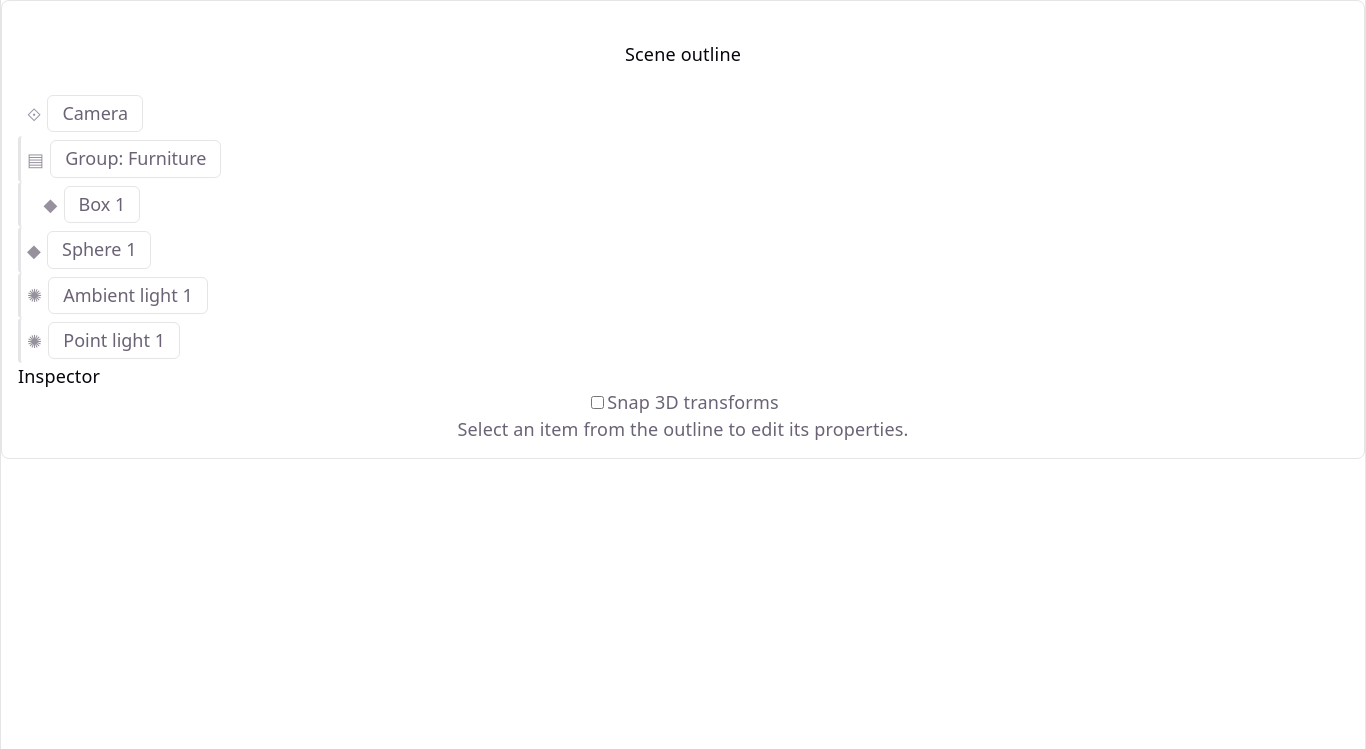
Test: Outline3DInspector › shows an object's material and type-specific dimension fields
Click the button "Sphere 1": [99, 250] box [47,231,151,268]
(page scrolled)
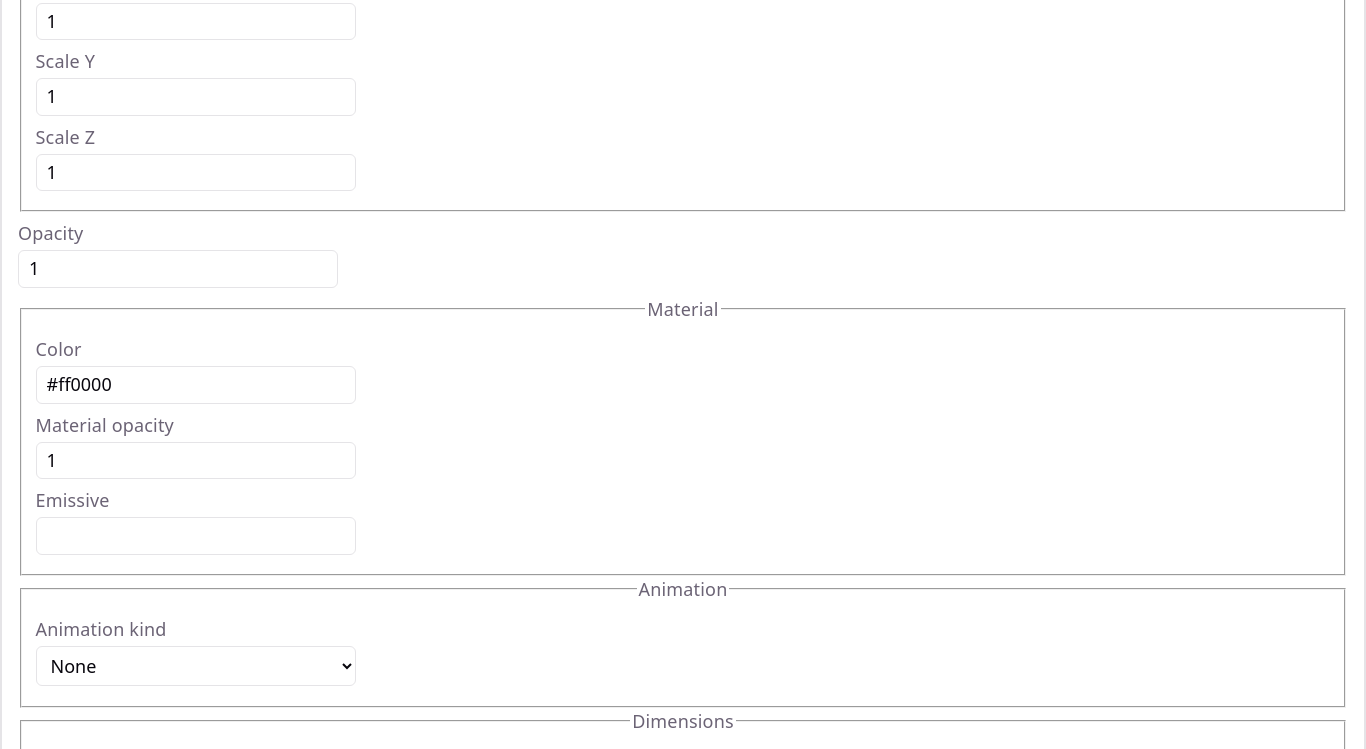
Now the field labelled "Color" holds "#ff0000", box [36,366,356,404]
